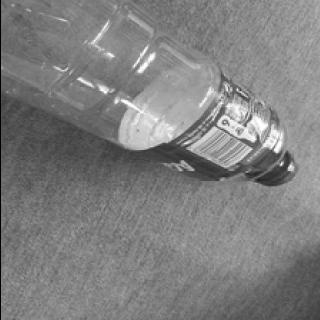plastic_bottles: (3, 3, 299, 188)
